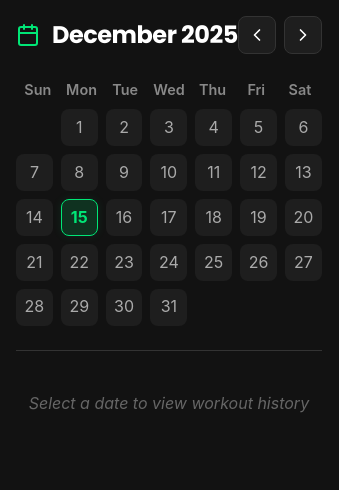
WorkoutCalendar › shows message when day has no workouts
Click the text "10".
click(169, 173)  # box [161,160,177,186]
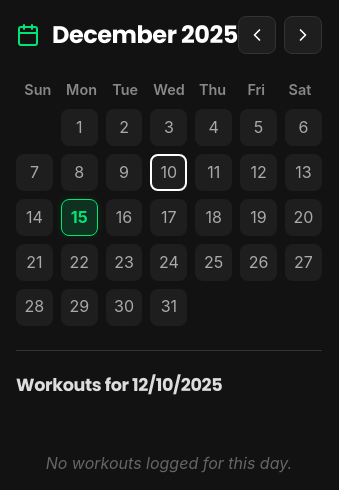
Check: the text "No workouts logged for this day." is shown, box [46,453,292,473]
